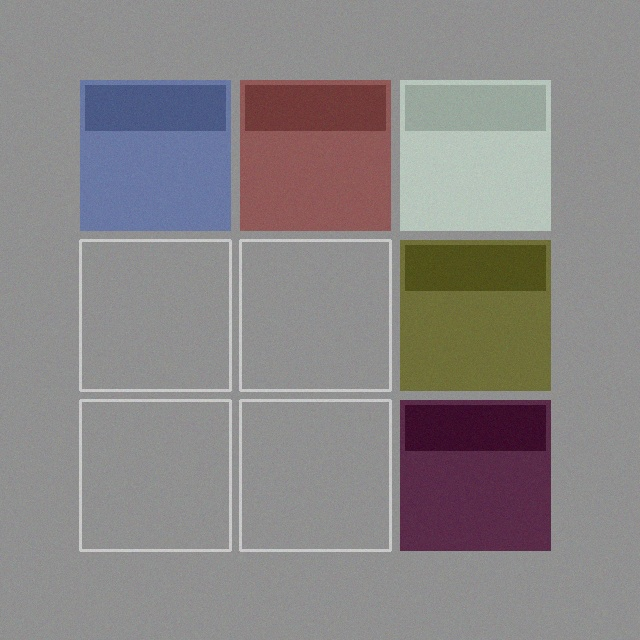space-empty: (80, 240, 230, 390), (240, 240, 390, 390), (80, 400, 230, 550), (240, 400, 390, 550)
space-occupied: (80, 80, 230, 230), (240, 80, 390, 230), (400, 80, 550, 230), (400, 240, 550, 390), (400, 400, 550, 550)
